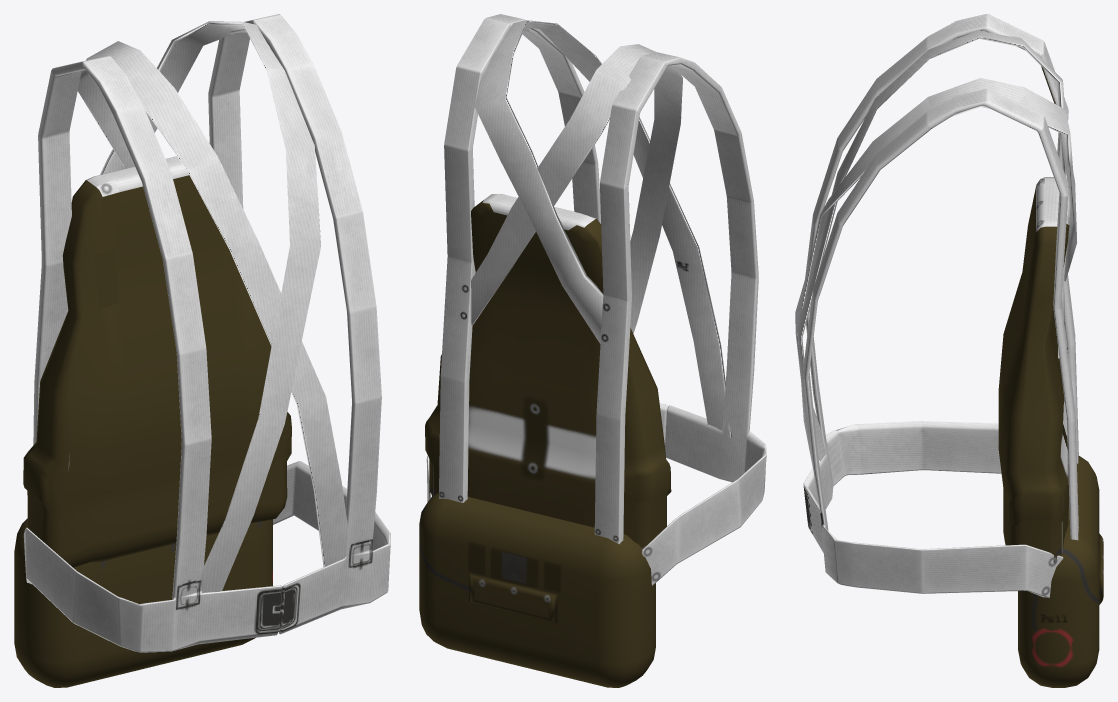
The model's file is Parachute.fbx.
3 views of the same model, side by side, from view 1: azimuth 30°, elevation 25°; view 2: azimuth 150°, elevation 25°; view 3: azimuth 270°, elevation 25° (orthographic). The views are drawn at different scales.
Visible parts, largest first — view 1: parachute; view 2: parachute; view 3: parachute.
Boxes of the visible parts, box(x1,y1,x2,y2) form: parachute: box(14, 14, 390, 687); parachute: box(419, 14, 766, 687); parachute: box(795, 14, 1103, 687).
Size of the model in its own units: 35.04 by 74.65 by 35.17.
